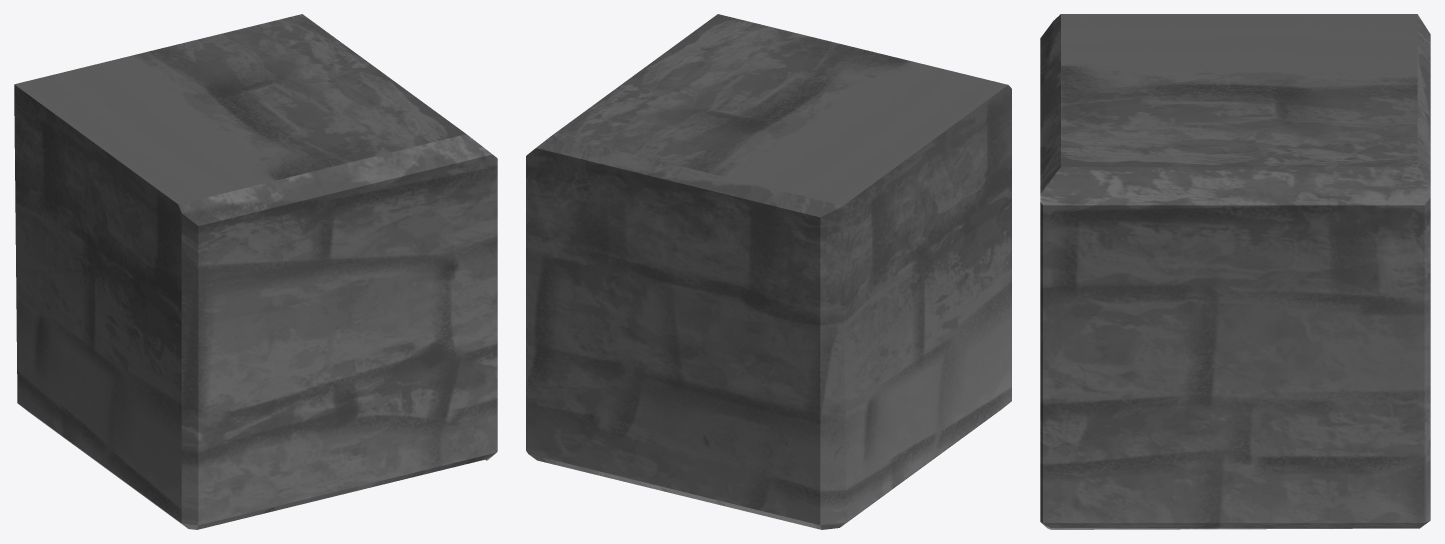
File: wallBlock.fbx
3 views of the same model, side by side, from view 1: azimuth 30°, elevation 25°; view 2: azimuth 150°, elevation 25°; view 3: azimuth 270°, elevation 25° (orthographic). The views are drawn at different scales.
Parts seen in each view (by area): view 1: Block; view 2: Block; view 3: Block.
Part boxes in pixels (bbox=[...]): Block: bbox=[14, 14, 497, 529]; Block: bbox=[526, 14, 1011, 529]; Block: bbox=[1040, 14, 1430, 529].
Bounding box in the file's own units: 406 × 406 × 406.
